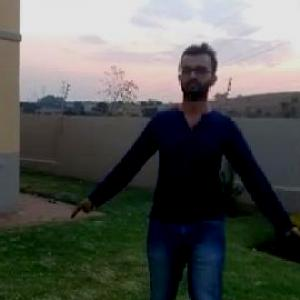land: (92, 52, 294, 299)
